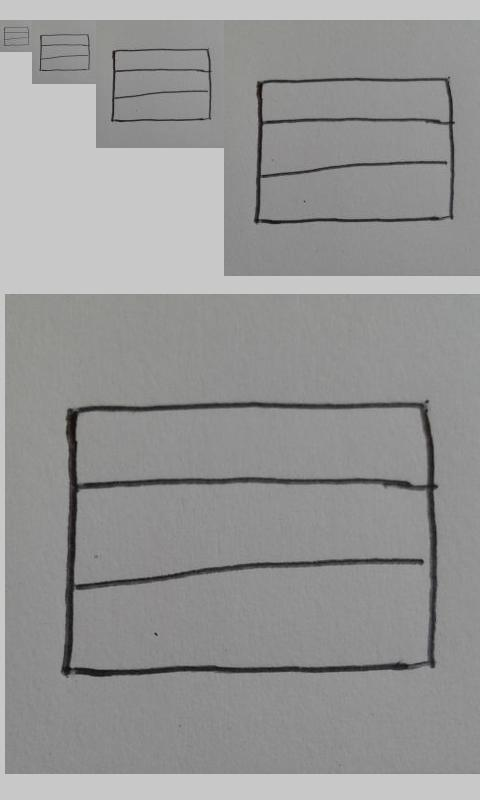list_view: (61, 398, 440, 681), (255, 77, 455, 224), (111, 48, 213, 123), (39, 33, 91, 72), (3, 26, 30, 47)
